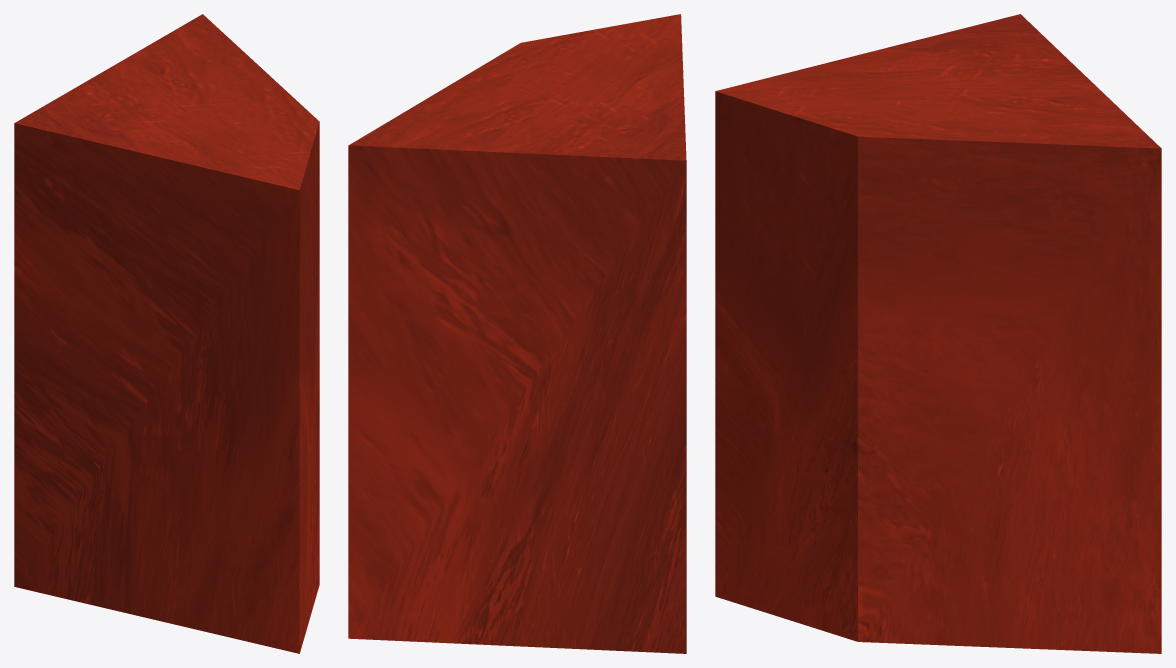
File: orange1.FBX
The picture shows the model from 3 angles, left to right: view 1: azimuth 30°, elevation 25°; view 2: azimuth 150°, elevation 25°; view 3: azimuth 270°, elevation 25°; orthographic projection. The views are drawn at different scales.
Parts seen in each view (by area): view 1: Ligne028; view 2: Ligne028; view 3: Ligne028.
Part boxes in pixels (x1,y1,x2,y2): Ligne028: [14, 14, 319, 653]; Ligne028: [348, 14, 686, 653]; Ligne028: [715, 14, 1161, 653].
Bounding box in the file's own units: 5.54 × 9.7 × 7.77.
1 material, 1 textured.
